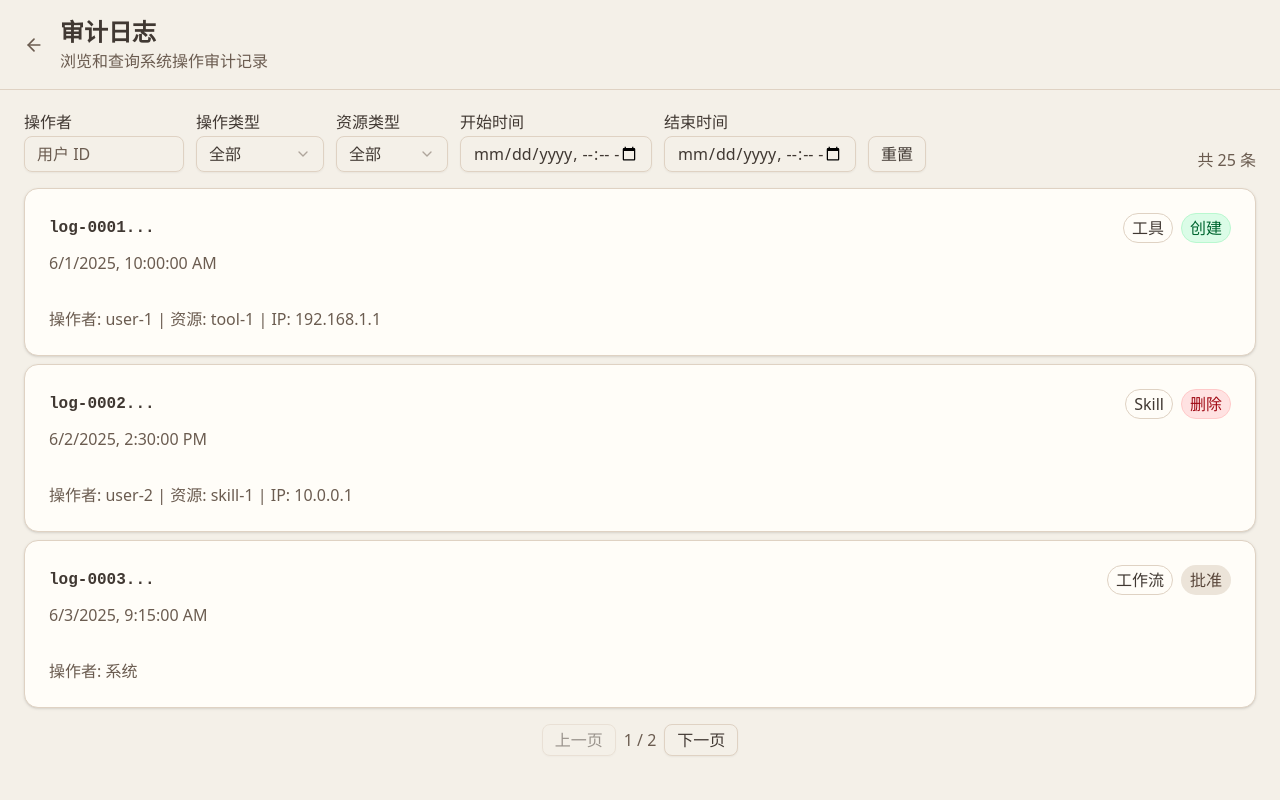
Scenario: AuditLogsPage › next page button is disabled on last page
Expected: the text "1 / 2" is shown, [624,728,656,752]
Click the button "下一页" at (701, 740), box [664,724,738,756]
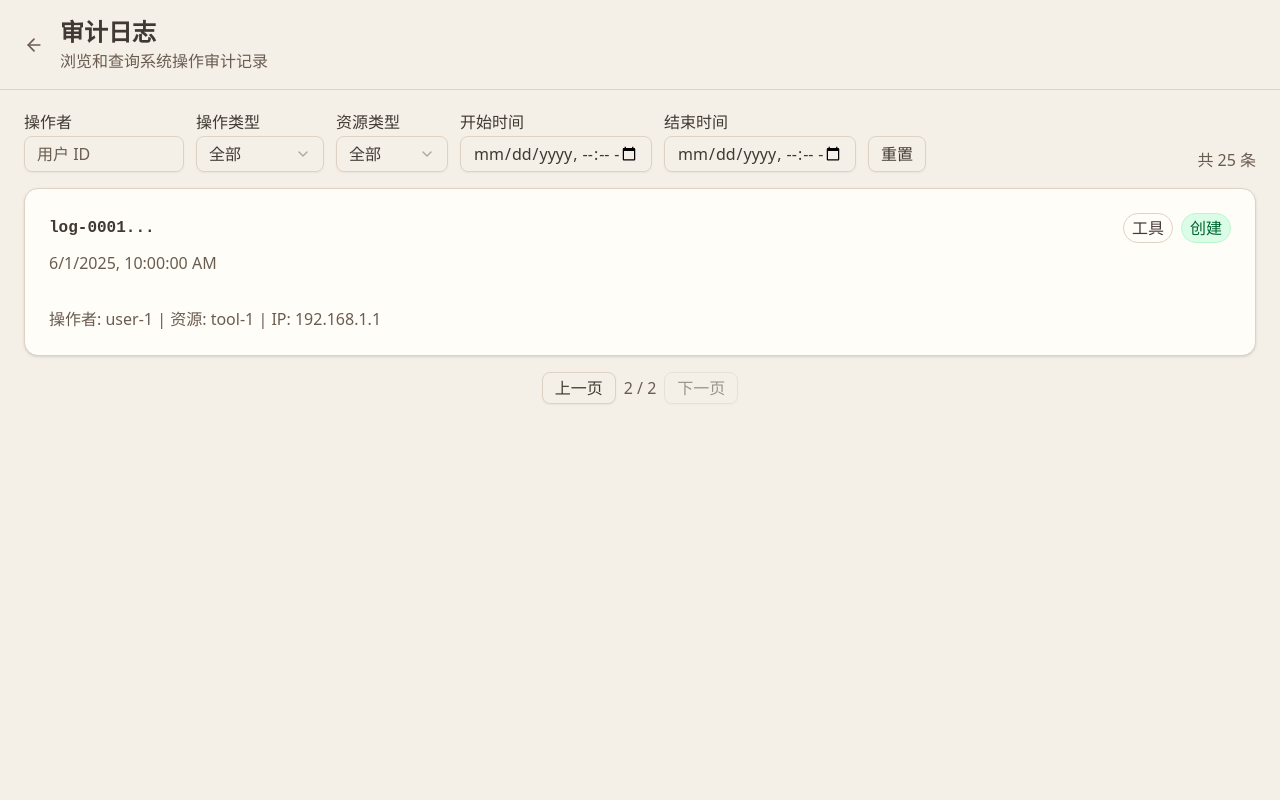
Expected: the text "2 / 2" is shown, [624,376,656,400]
Expected: the button "下一页" is disabled, [664,372,738,404]
